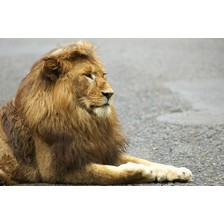lion: (0, 40, 193, 186)
